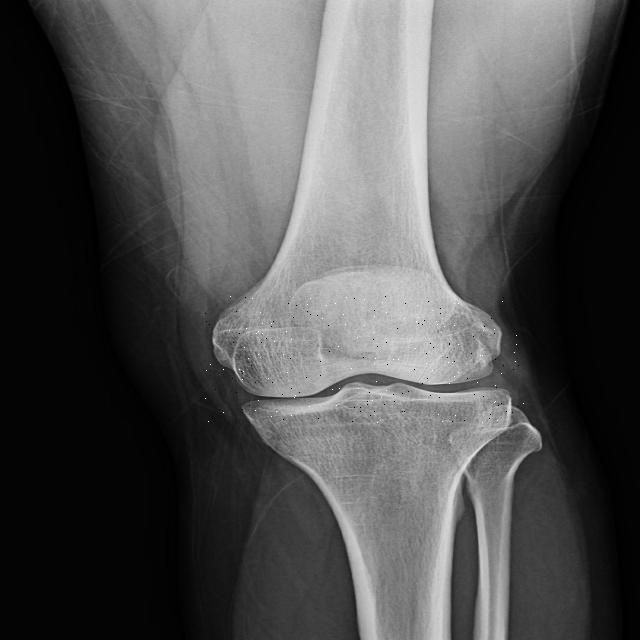osteo: (204, 296, 525, 425)
